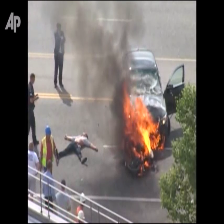fire_h: (122, 82, 165, 160)
fire_l: (139, 160, 150, 175)
